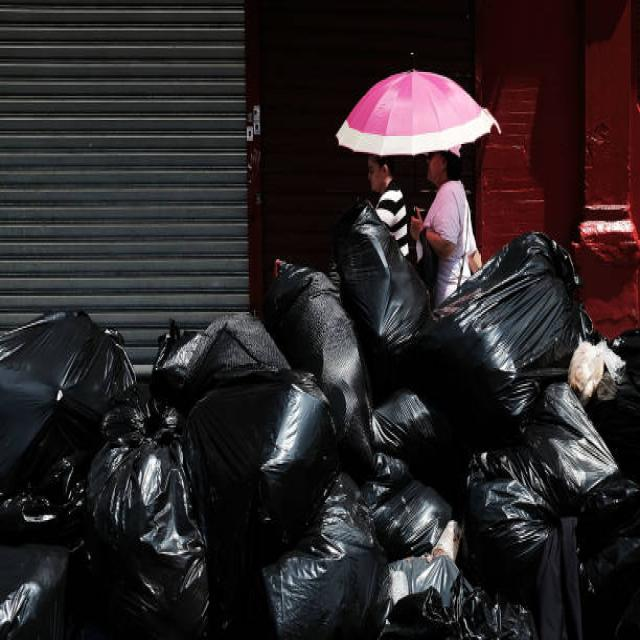trash: (9, 240, 604, 624)
